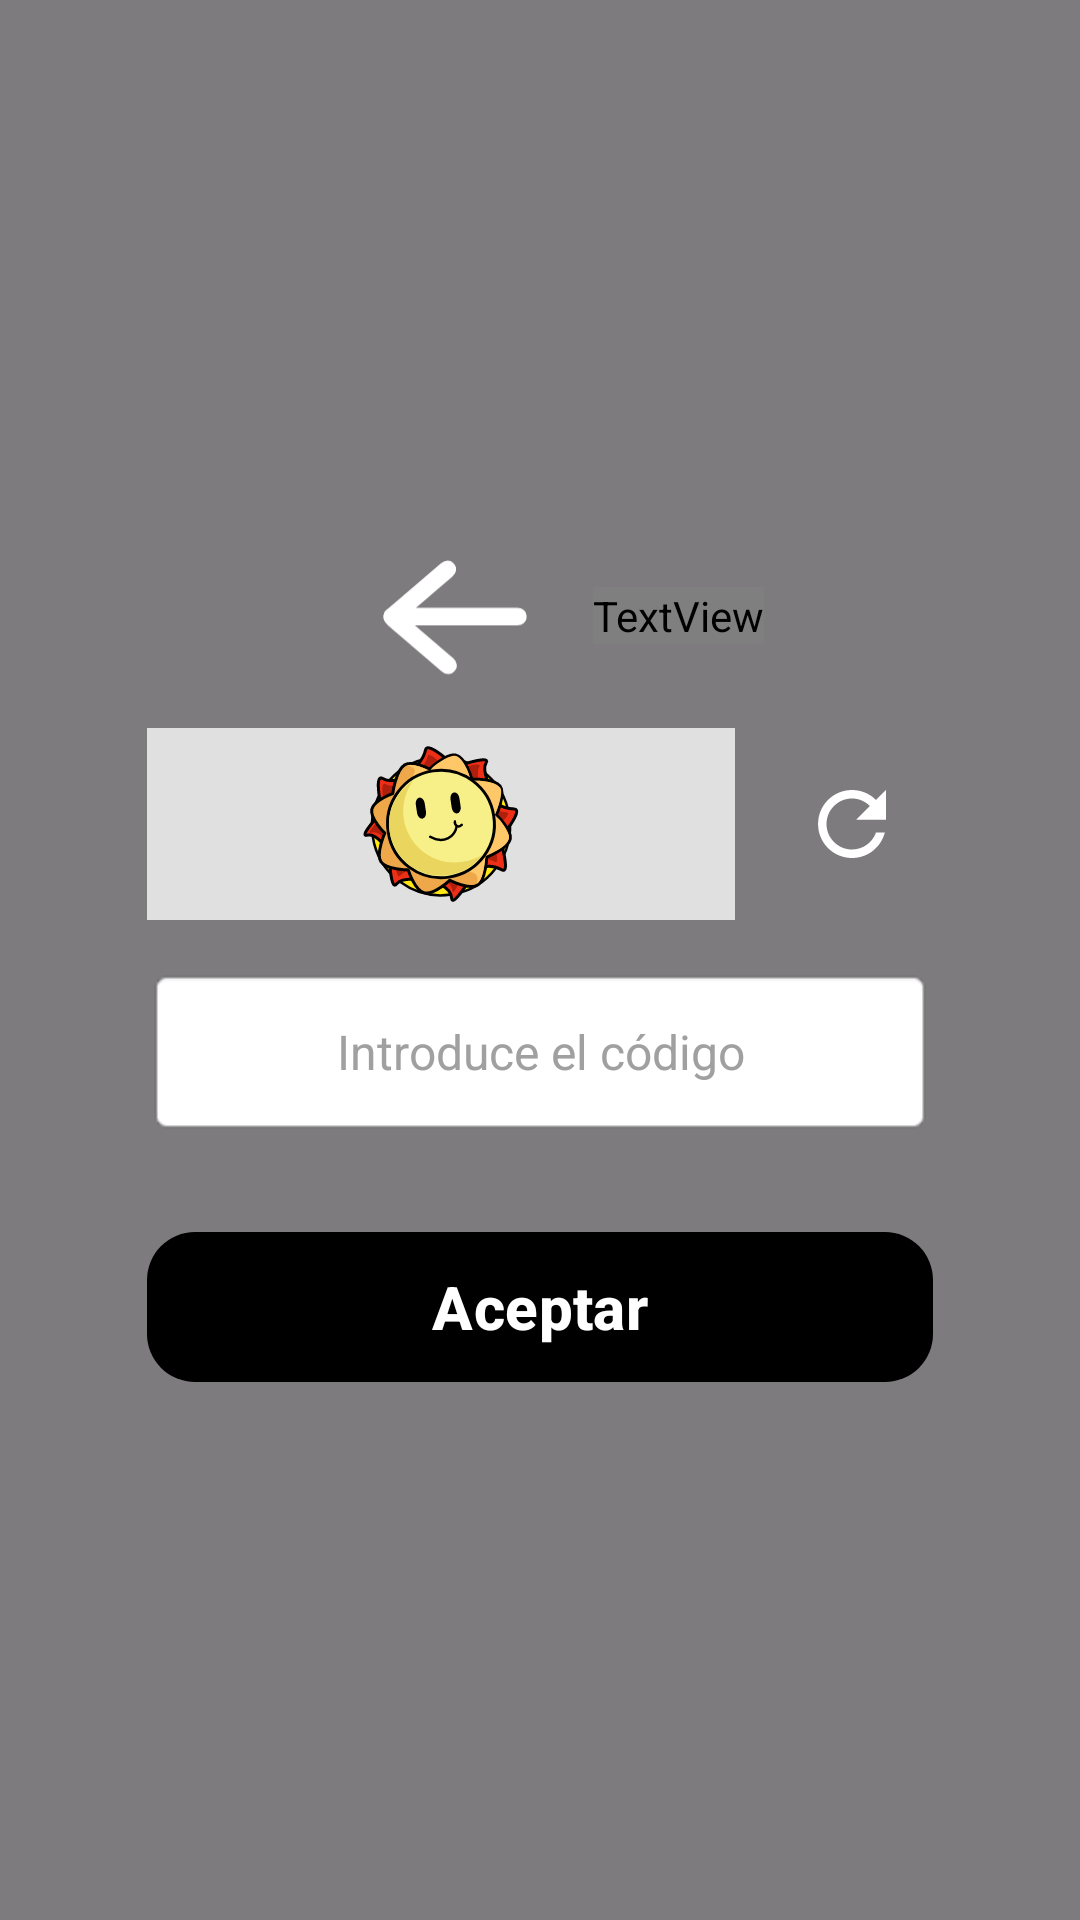

Locate icon controls on the screen. Image size 1080w x 1920h, boxes as bbox=(x1, y1, x2, y2).
Cambiar captcha: bbox=(818, 790, 886, 858)
Cancelar y salir: bbox=(383, 560, 527, 675)
